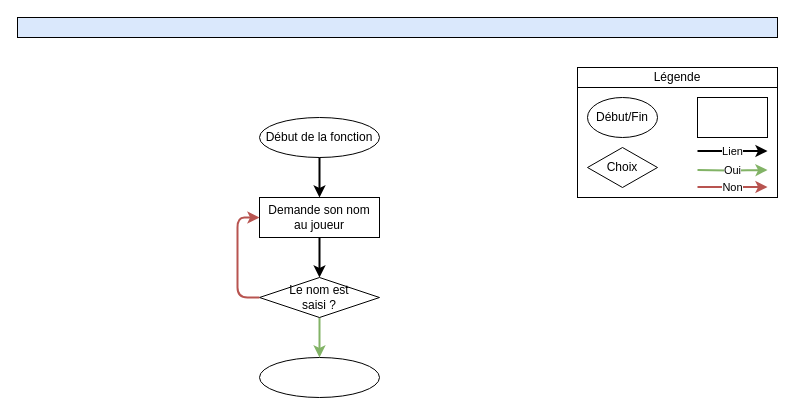
Image size: 795x415. Some labels were removed from this diagram. Here are the shapes that lost their labels. From the top down, the centre of each, then its label:
At point (397, 27): "Labyrinthe v1.21 (Get player data)".
At point (732, 117): "Action / Processus".
At point (319, 377): "Retour de <Nom>".
